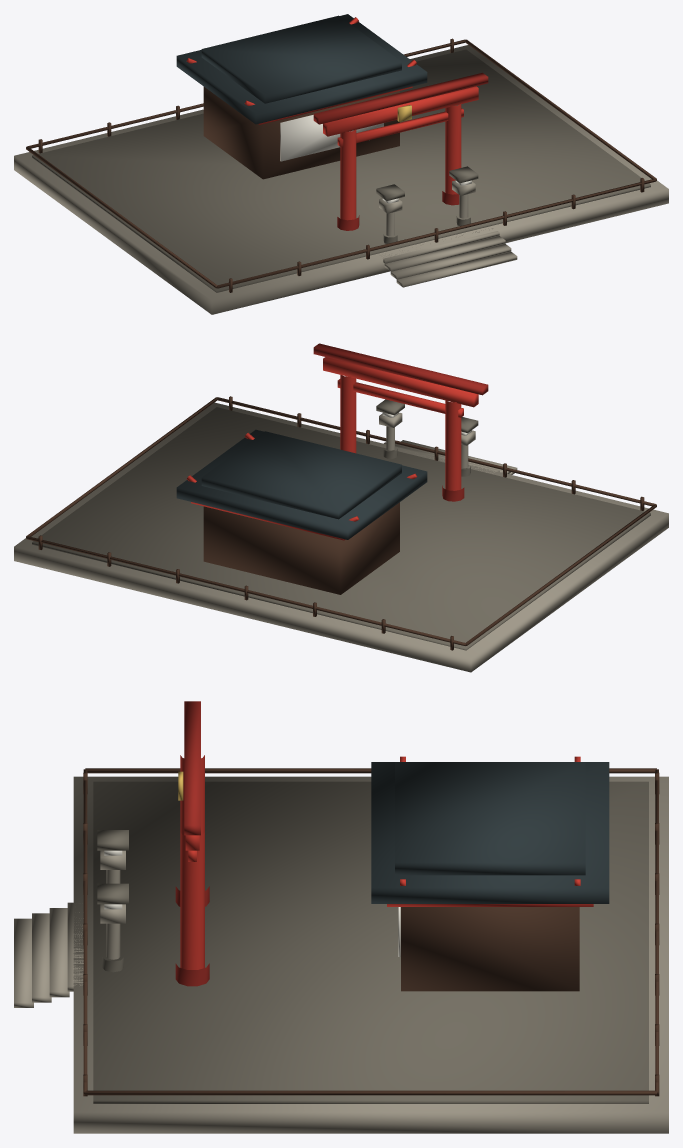
Rendered from kurogane_suzuka_ridge_shrine.glb.
3 renders of one model, top to bottom at view 1: azimuth 30°, elevation 25°; view 2: azimuth 150°, elevation 25°; view 3: azimuth 270°, elevation 25°, orthographic. The views are drawn at different scales.
Parts seen in each view (by area): view 1: Surface_stone_dark, Surface_stone, Surface_roof, Surface_timber, Surface_vermilion, Surface_vermilion_dark, Surface_paper; view 2: Surface_stone_dark, Surface_stone, Surface_timber, Surface_roof, Surface_vermilion, Surface_vermilion_dark; view 3: Surface_stone_dark, Surface_stone, Surface_roof, Surface_timber, Surface_vermilion, Surface_vermilion_dark.
Part boxes in pixels (box(x1,y1,x2,y2)): Surface_stone_dark: box(32, 49, 650, 292); Surface_stone: box(14, 45, 668, 314); Surface_roof: box(176, 14, 427, 124); Surface_timber: box(26, 38, 656, 292); Surface_vermilion: box(186, 17, 478, 220); Surface_vermilion_dark: box(313, 72, 488, 230); Surface_paper: box(280, 114, 471, 203); Surface_stone_dark: box(32, 399, 650, 650); Surface_stone: box(14, 402, 668, 672); Surface_timber: box(26, 396, 656, 650); Surface_roof: box(176, 429, 427, 539); Surface_vermilion: box(186, 357, 478, 540); Surface_vermilion_dark: box(313, 343, 488, 501); Surface_stone_dark: box(93, 781, 648, 1103); Surface_stone: box(14, 776, 668, 1133); Surface_roof: box(371, 762, 609, 903); Surface_timber: box(83, 768, 659, 1096); Surface_vermilion: box(180, 755, 593, 969); Surface_vermilion_dark: box(175, 701, 209, 986).
Size of the model in its own units: 40 by 11.27 by 33.
